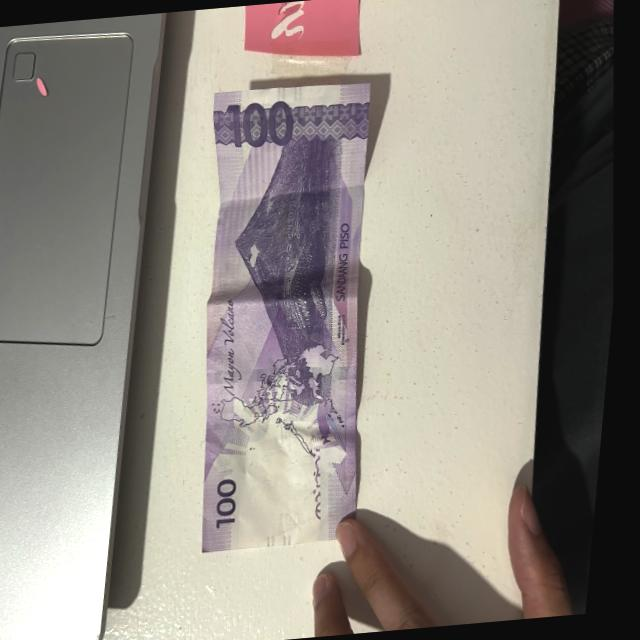100_whale: (281, 225, 343, 352)
100_whale_watermark: (318, 389, 345, 447)
value_watermark: (286, 501, 314, 532)
